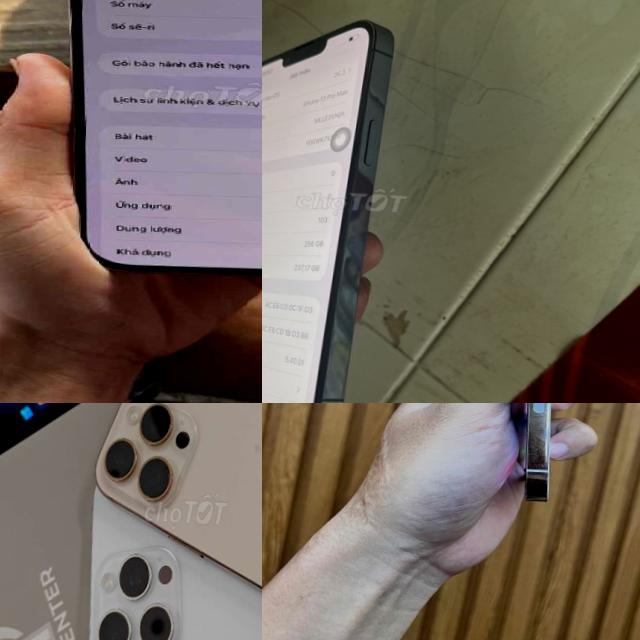scratch: (520, 408, 560, 498)
